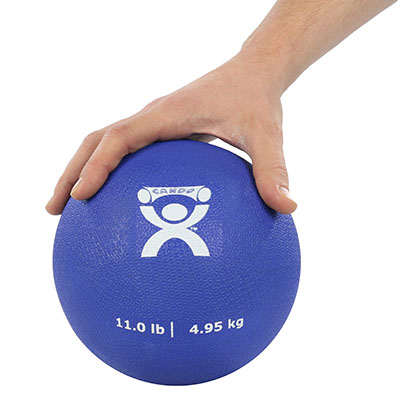blue ball: (51, 138, 301, 385)
